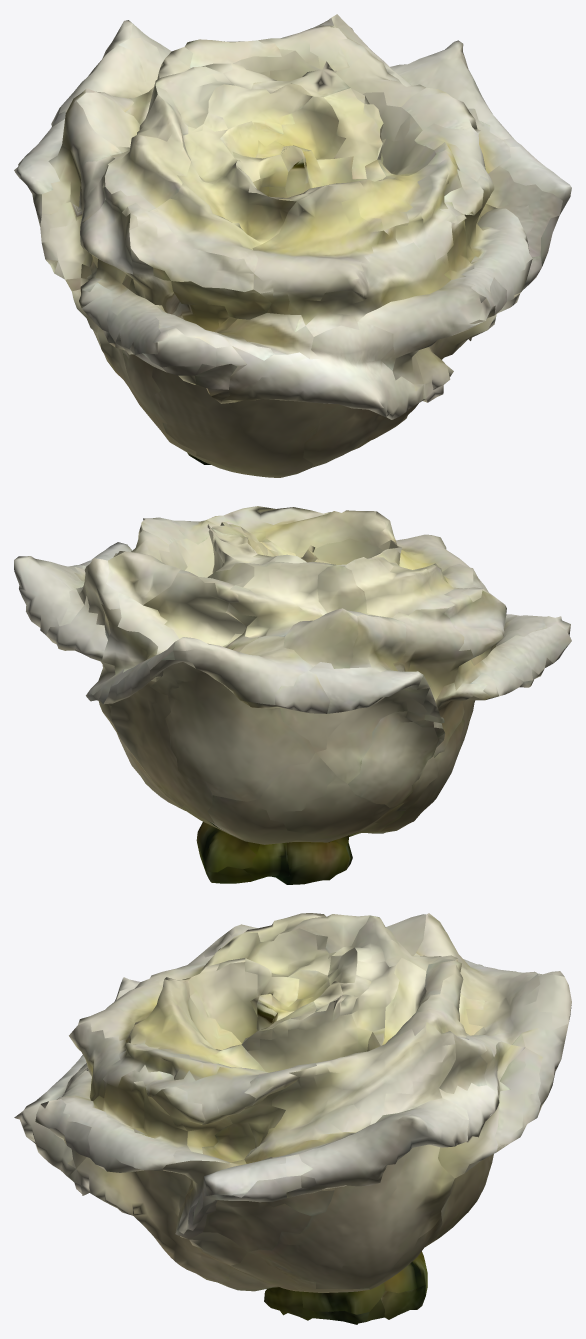
The picture shows the model from 3 angles, top to bottom: view 1: azimuth 30°, elevation 25°; view 2: azimuth 150°, elevation 25°; view 3: azimuth 270°, elevation 25°; orthographic projection. The views are drawn at different scales.
Visible parts, largest first — view 1: 48f64d7a; view 2: 48f64d7a; view 3: 48f64d7a.
Part boxes in pixels (x1,y1,x2,y2): 48f64d7a: (14, 14, 571, 477); 48f64d7a: (14, 506, 571, 884); 48f64d7a: (14, 913, 571, 1324).
Size of the model in its own units: 0.0743 by 0.0549 by 0.0801.
1 material, 1 textured.
